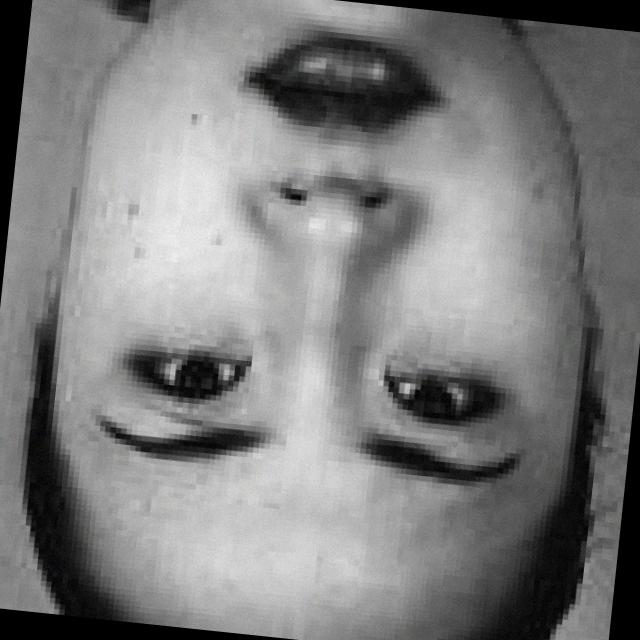disgust: (18, 0, 608, 595)
